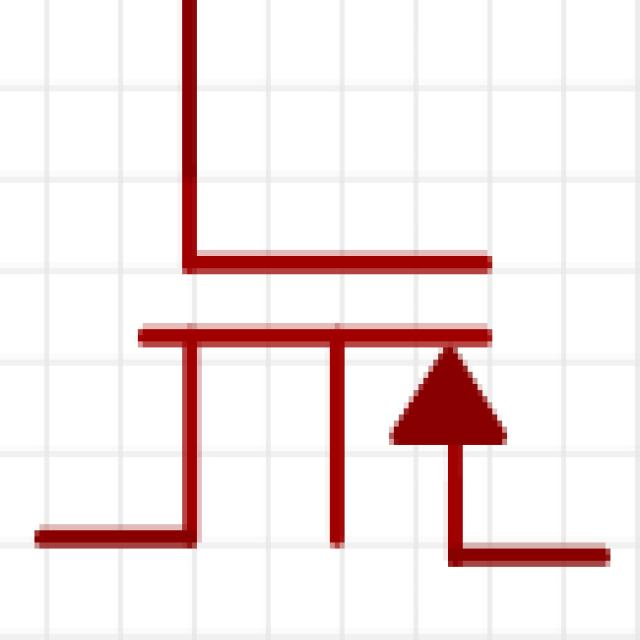pmos: (54, 46, 634, 605)
